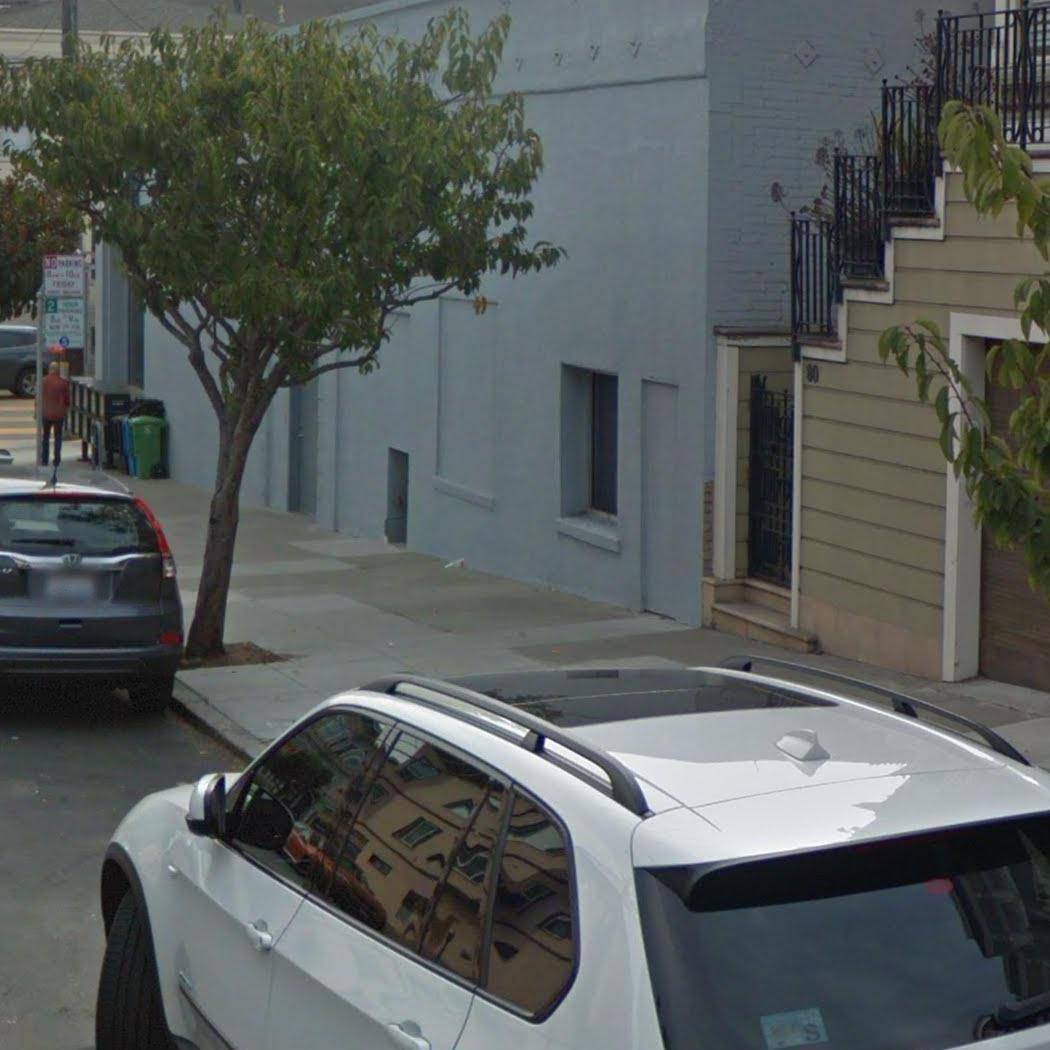2 Hour Parking: (40, 296, 89, 353)
No Parking: (40, 253, 87, 296)
